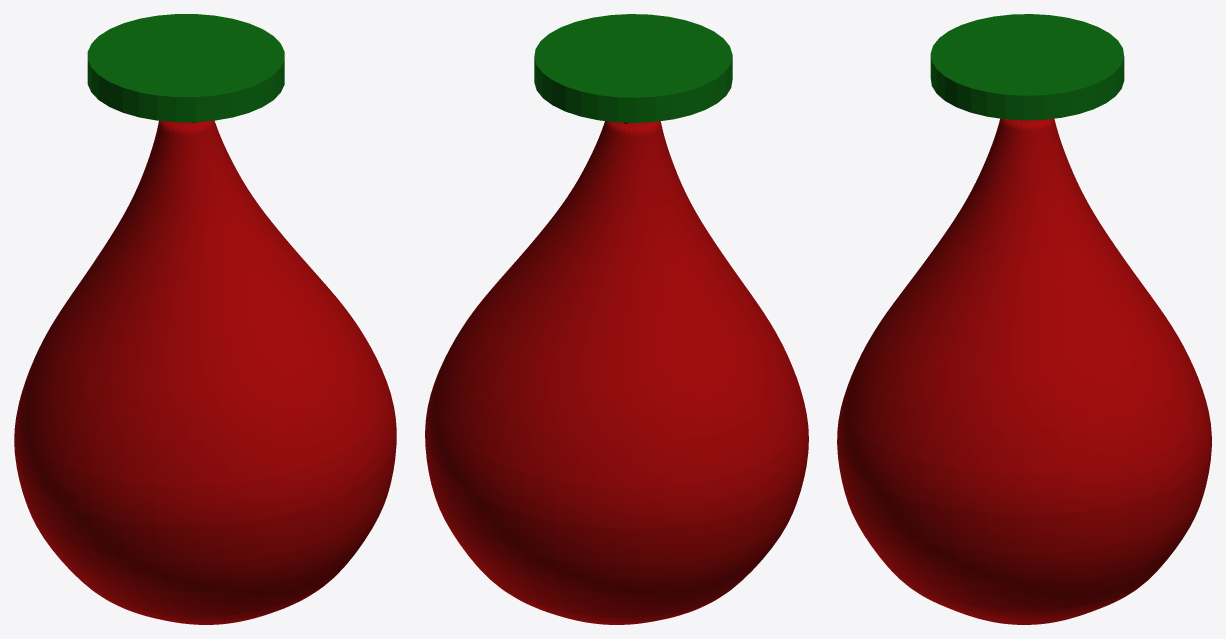
File: PunchingBall_neutre.fbx
The picture shows the model from 3 angles, left to right: view 1: azimuth 30°, elevation 25°; view 2: azimuth 150°, elevation 25°; view 3: azimuth 270°, elevation 25°; orthographic projection. The views are drawn at different scales.
Visible parts, largest first — view 1: PunchingBall_Mini, Socle; view 2: PunchingBall_Mini, Socle; view 3: PunchingBall_Mini, Socle.
Part boxes in pixels (x1,y1,x2,y2): PunchingBall_Mini: (14,120,396,624); Socle: (87,14,284,122); PunchingBall_Mini: (425,121,808,624); Socle: (534,14,732,122); PunchingBall_Mini: (837,118,1211,624); Socle: (930,14,1124,120).
Bounding box in the file's own units: 282 × 453 × 282.
